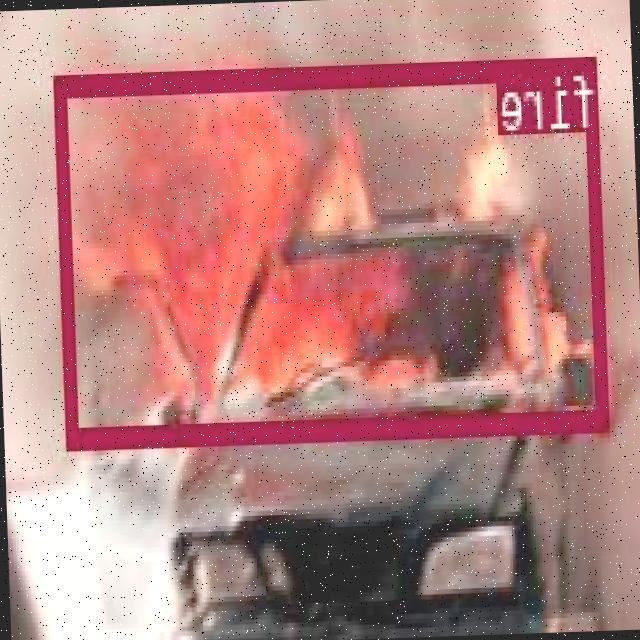fire: (58, 54, 610, 443)
